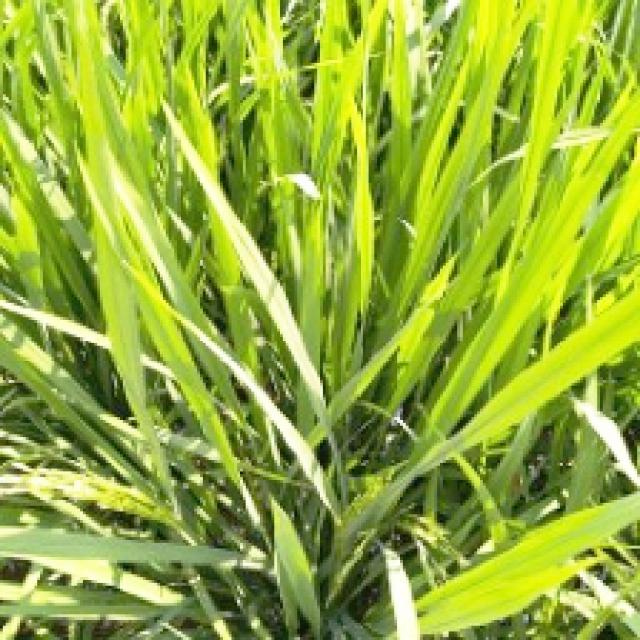health: (34, 0, 640, 606)
